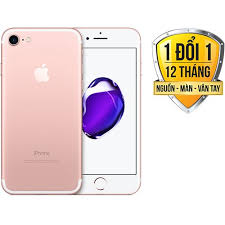iphone: (1, 21, 83, 194)
iphone7: (1, 21, 83, 194)
